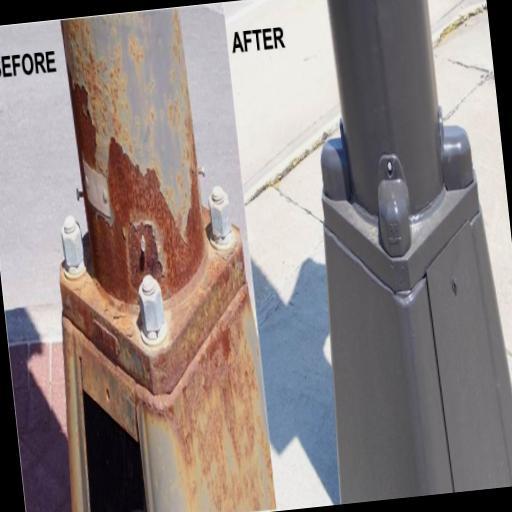segmentation: (133, 228, 275, 512), (60, 251, 246, 394), (84, 141, 203, 304), (92, 138, 181, 304), (68, 69, 95, 181)
